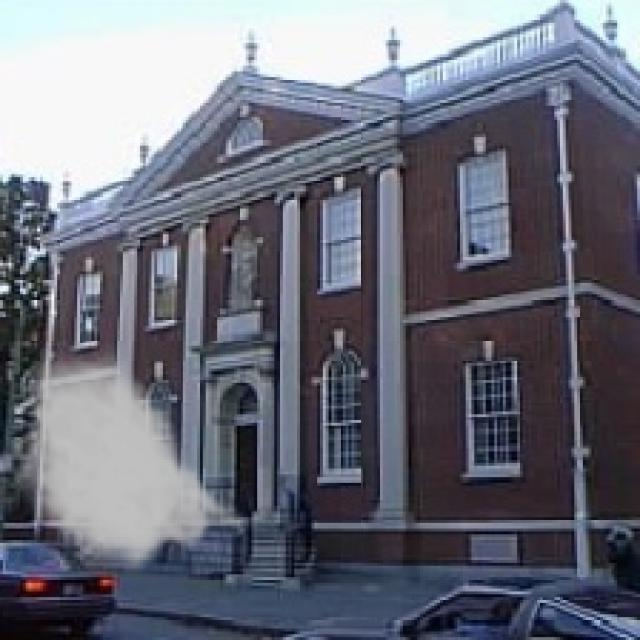smoke: (14, 340, 257, 577)
